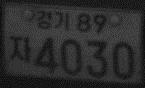0: (110, 40, 135, 81), (60, 37, 82, 77)
3: (85, 38, 108, 79)
4: (33, 36, 59, 76)
8: (76, 11, 91, 33)
9: (92, 12, 107, 34)
경기_H: (34, 8, 70, 30)
자: (8, 34, 32, 65)
